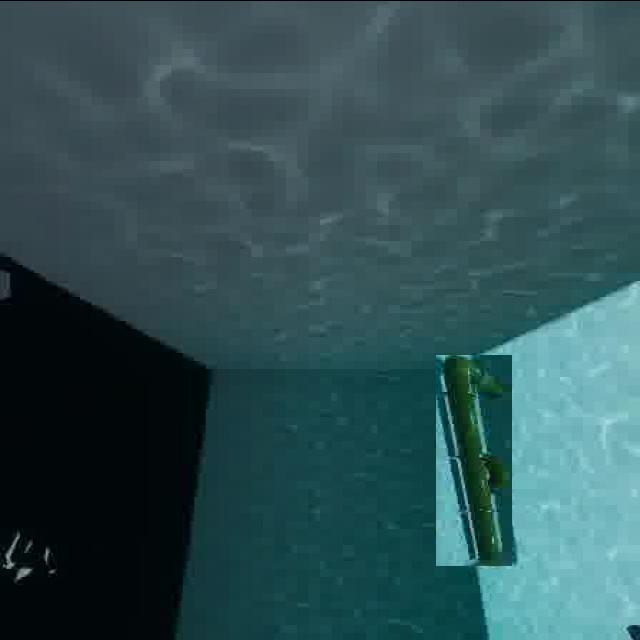Pipe: (435, 354, 512, 566)
